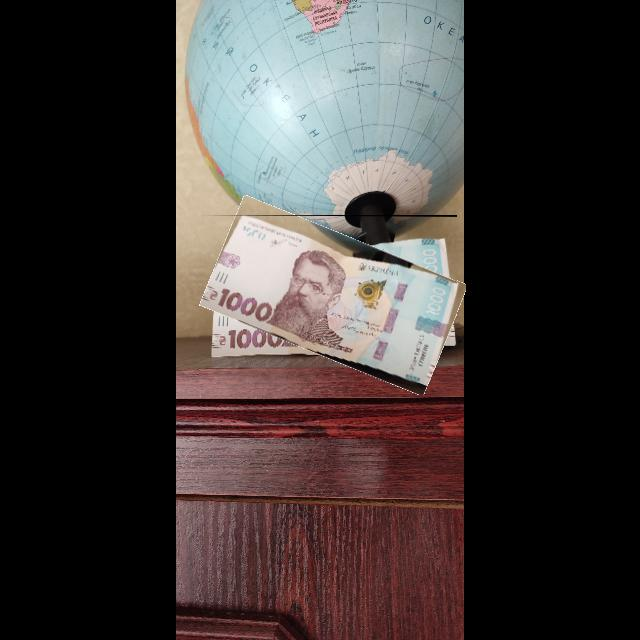1000uah: (199, 216, 458, 384)
